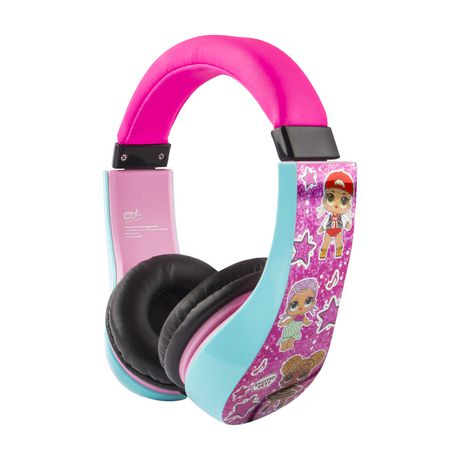Headphone: (97, 31, 361, 426)
